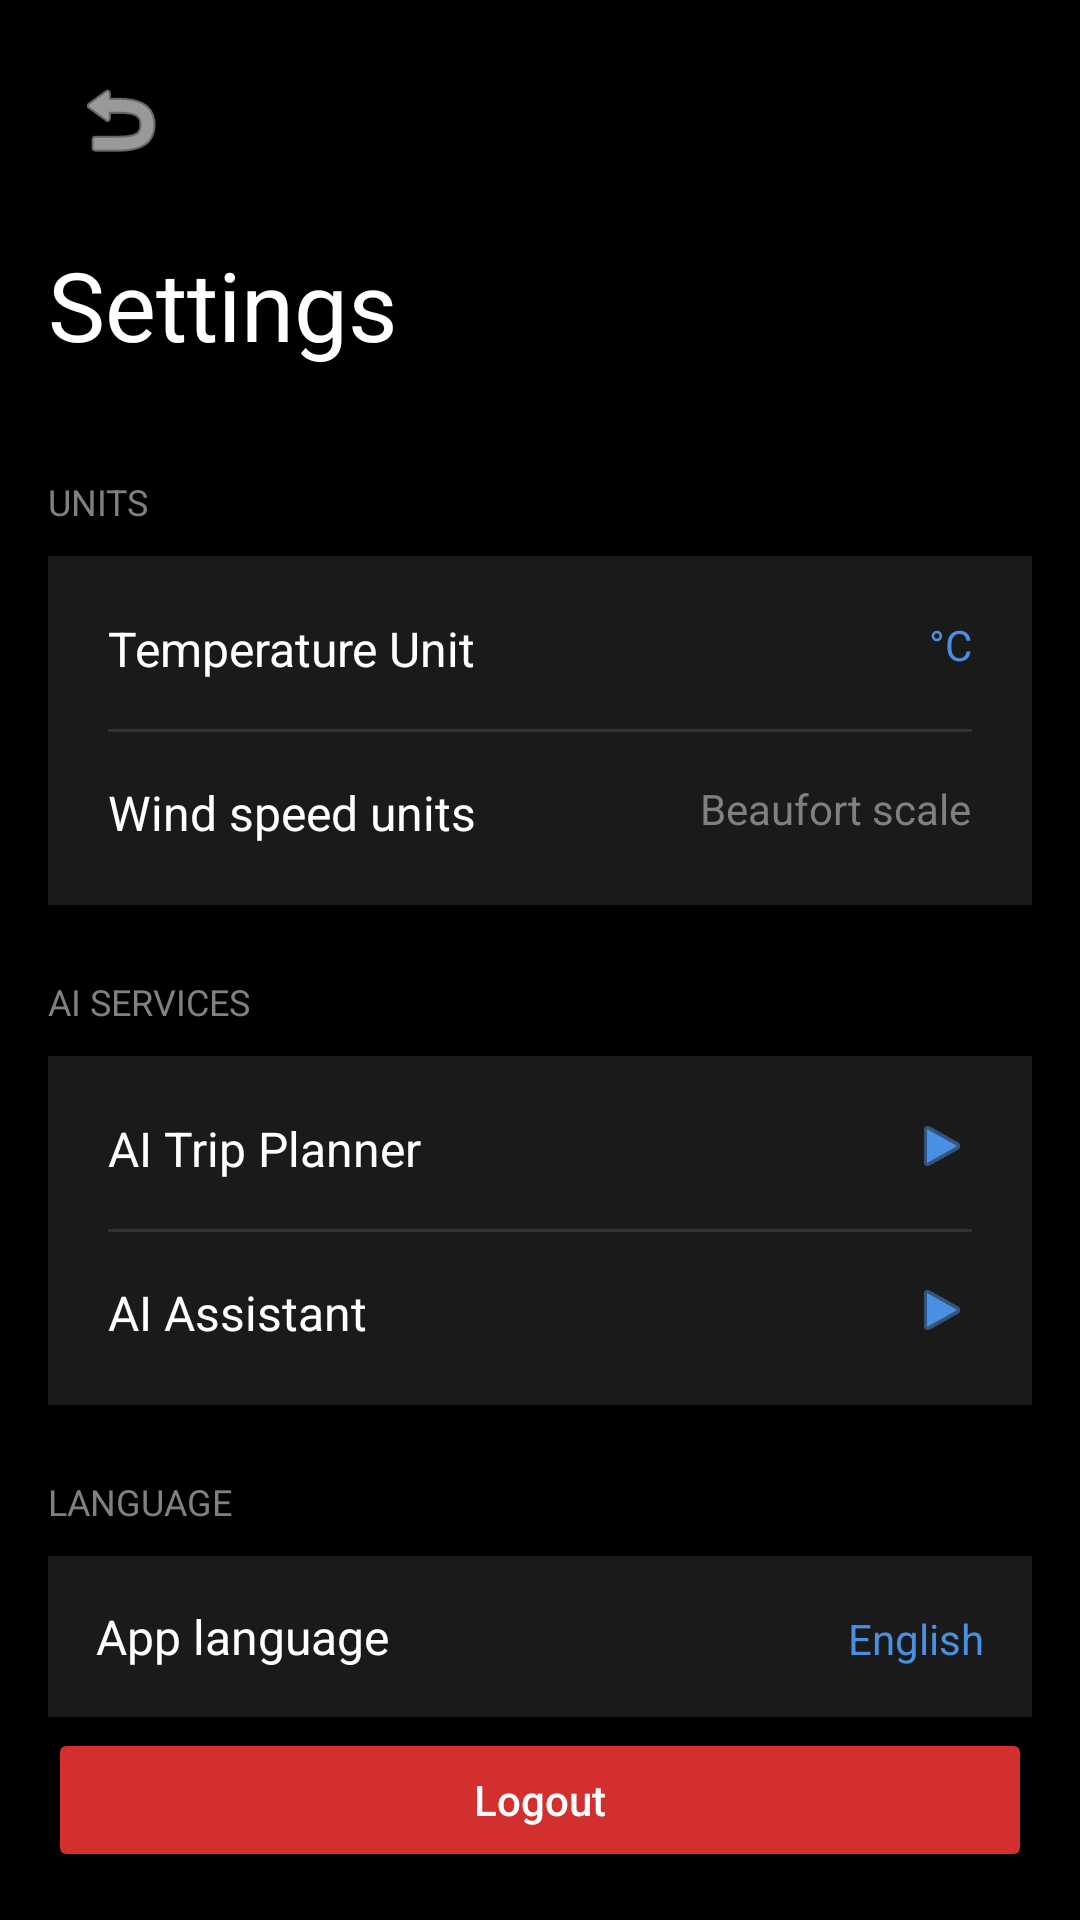

Point at icon controls on the screen. Image size 1080 x 1920, points as (x=x, y=y).
Cancel: (x=121, y=120)
